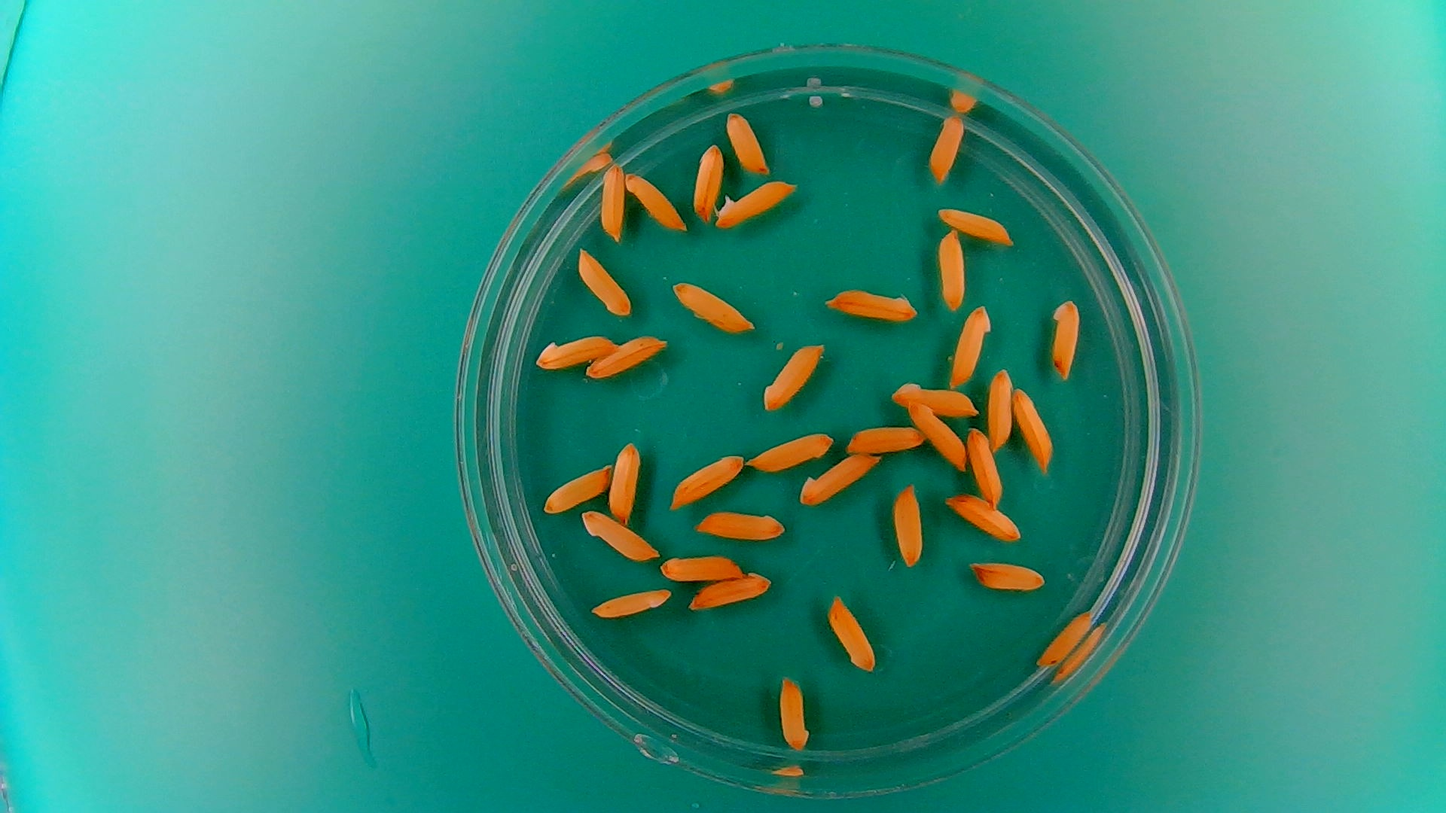no: (797, 451, 882, 508), (670, 279, 758, 334), (759, 340, 825, 413), (667, 451, 745, 510), (941, 490, 1027, 543), (904, 399, 968, 470), (578, 507, 660, 562), (825, 592, 878, 674), (575, 245, 633, 317), (744, 430, 837, 473), (624, 169, 687, 232), (1011, 385, 1056, 473), (585, 333, 669, 380), (889, 376, 980, 419), (948, 302, 992, 388), (530, 333, 623, 373), (541, 464, 612, 516), (823, 285, 920, 323), (1034, 607, 1094, 668), (934, 204, 1016, 246), (687, 571, 773, 611), (965, 424, 1005, 508), (890, 479, 926, 569), (694, 507, 787, 541), (606, 438, 642, 524), (724, 108, 770, 175), (926, 111, 968, 184), (967, 557, 1048, 594), (589, 585, 673, 620), (776, 672, 812, 753), (691, 139, 725, 224), (935, 227, 968, 312), (658, 551, 745, 583), (1048, 297, 1081, 380), (845, 422, 926, 455), (984, 364, 1014, 450), (599, 160, 626, 241)
yes: (716, 175, 800, 229)
